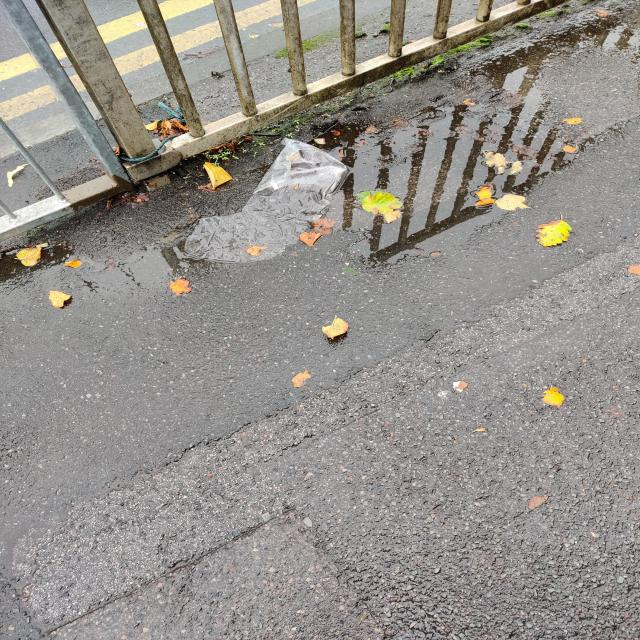litter: (178, 130, 368, 264)
